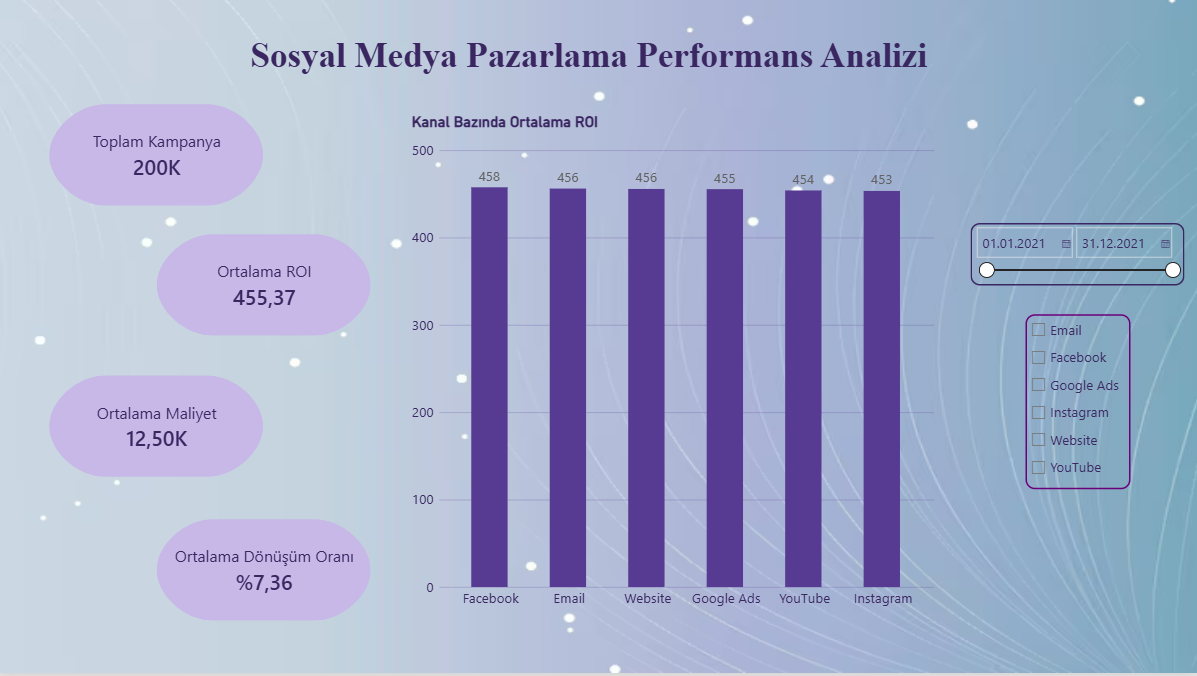

What the dashboard file says about the page in this screenshot:
{"tool":"powerbi","page":{"name":"Genel Bakış","canvas":[1920,1080],"ordinal":0},"visuals":[{"type":"cardVisual","fields":{"Data":["temiz_kampanya_verisi.Toplam Kampanya"]},"box":[82,170,342,162],"z":1},{"type":"cardVisual","fields":{"Data":["temiz_kampanya_verisi.Ortalama ROI"]},"box":[254,378,342,162],"z":2},{"type":"cardVisual","fields":{"Data":["temiz_kampanya_verisi.Ortalama Maliyet"]},"box":[82,604,342,162],"z":3},{"type":"cardVisual","fields":{"Data":["temiz_kampanya_verisi.Ortalam Dönüşüm Oranı"]},"box":[254,834,342,162],"z":4},{"type":"clusteredColumnChart","title":"Kanal Bazında Ortalama ROI","fields":{"Category":["temiz_kampanya_verisi.channel_name"],"Y":["temiz_kampanya_verisi.Ortalama ROI"]},"box":[646,170,868,826],"z":5},{"type":"textbox","box":[404,60,1110,64],"z":6},{"type":"slicer","fields":{"Values":["temiz_kampanya_verisi.channel_name"]},"box":[1644,506,168,280],"z":7},{"type":"slicer","fields":{"Values":["temiz_kampanya_verisi.campaign_date"]},"box":[1556,360,342.3,100.2],"z":8}]}

Visuals, with their boxes in screenshot pixels (x1, y1, x2, y2), scaled from the page's 1920x1080 canvas onto the 1197x676 screenshot:
cardVisual - temiz_kampanya_verisi.Toplam Kampanya: box=[51, 106, 264, 208]
cardVisual - temiz_kampanya_verisi.Ortalama ROI: box=[158, 237, 372, 338]
cardVisual - temiz_kampanya_verisi.Ortalama Maliyet: box=[51, 378, 264, 479]
cardVisual - temiz_kampanya_verisi.Ortalam Dönüşüm Oranı: box=[158, 522, 372, 623]
"Kanal Bazında Ortalama ROI" clusteredColumnChart: box=[403, 106, 944, 623]
textbox: box=[252, 38, 944, 78]
slicer - temiz_kampanya_verisi.channel_name: box=[1025, 317, 1130, 492]
slicer - temiz_kampanya_verisi.campaign_date: box=[970, 225, 1183, 288]
